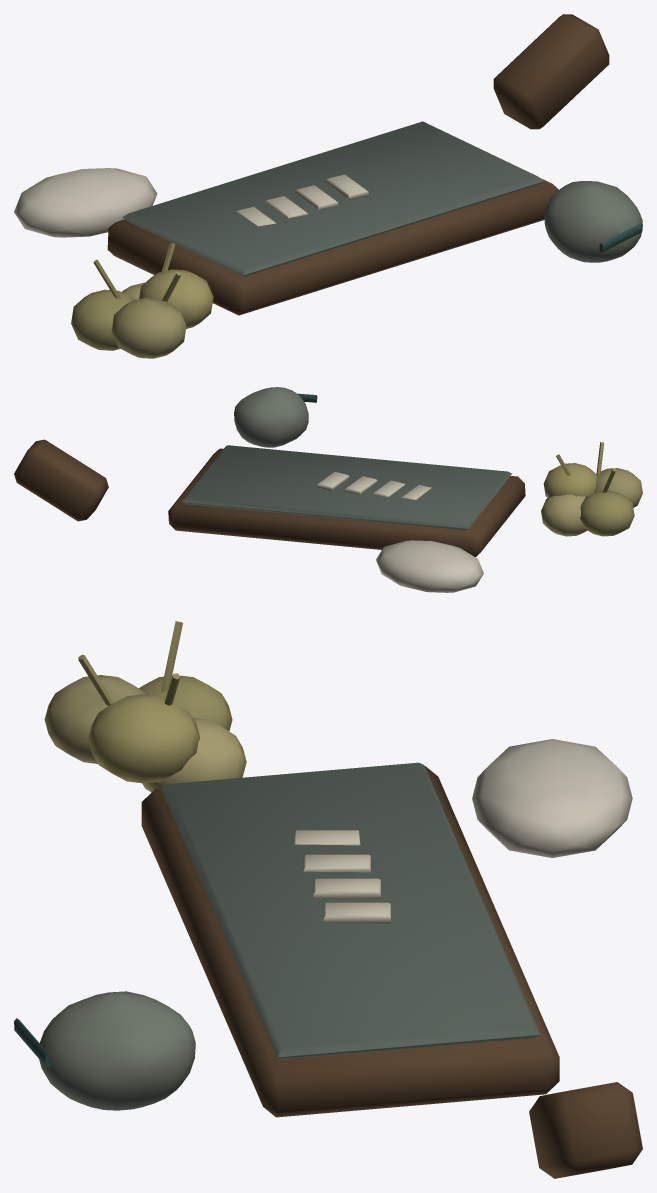
File: bench_sign_b.glb
3 views of the same model, one above another, from view 1: azimuth 30°, elevation 25°; view 2: azimuth 150°, elevation 25°; view 3: azimuth 270°, elevation 25° (orthographic). The views are drawn at different scales.
Parts seen in each view (by area): view 1: Surface; view 2: Surface; view 3: Surface.
Boxes of the visible parts, box(x1,y1,x2,y2) form: Surface: box(14, 14, 642, 358); Surface: box(14, 387, 642, 592); Surface: box(14, 621, 642, 1178).
Size of the model in its own units: 3.37 by 0.4932 by 1.87.
